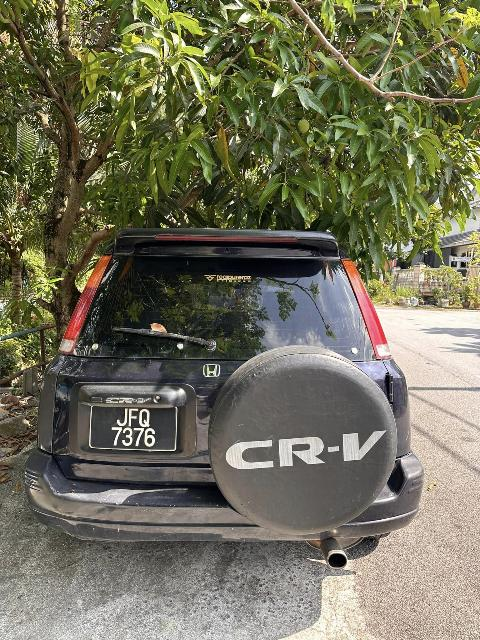License_Plate: (99, 404, 170, 453)
car: (32, 215, 425, 571)
